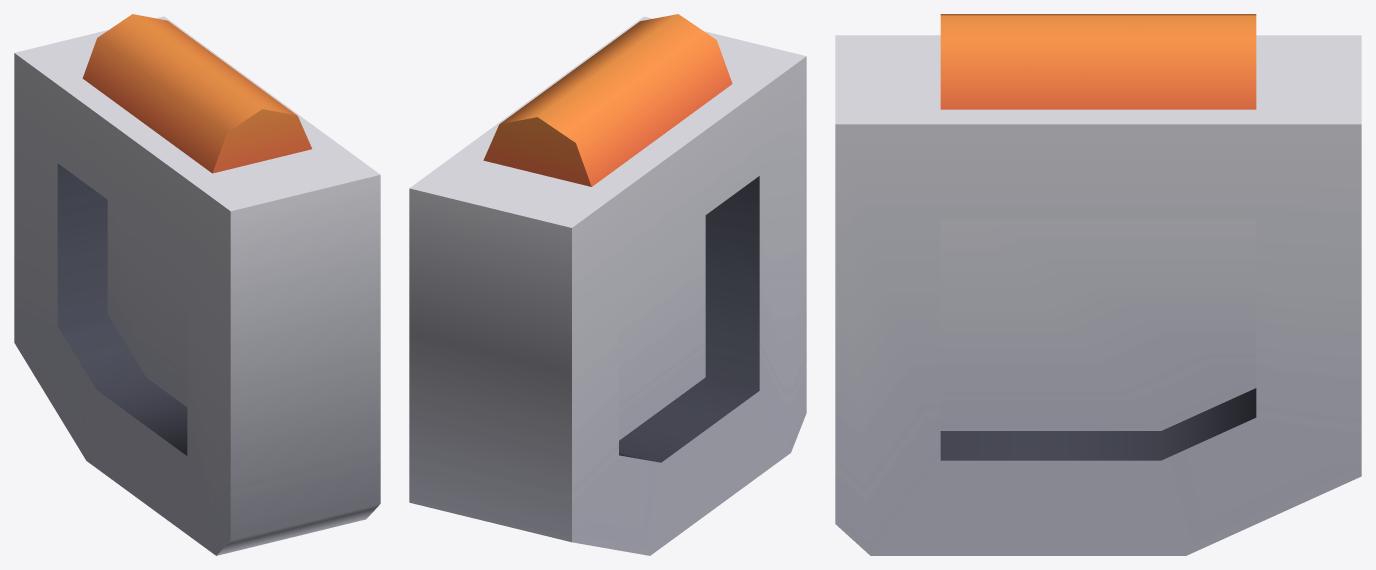
Rendered from clip-small.glb.
The picture shows the model from 3 angles, left to right: view 1: azimuth 30°, elevation 25°; view 2: azimuth 150°, elevation 25°; view 3: azimuth 270°, elevation 25°; orthographic projection. The views are drawn at different scales.
Visible parts, largest first — view 1: clip-small; view 2: clip-small; view 3: clip-small.
Part boxes in pixels (left/top/right/bottom): clip-small: left=14, top=14, right=380, bottom=555; clip-small: left=409, top=14, right=806, bottom=555; clip-small: left=835, top=14, right=1361, bottom=555.
Size of the model in its own units: 0.06 by 0.1558 by 0.15.
1 material, 1 textured.
